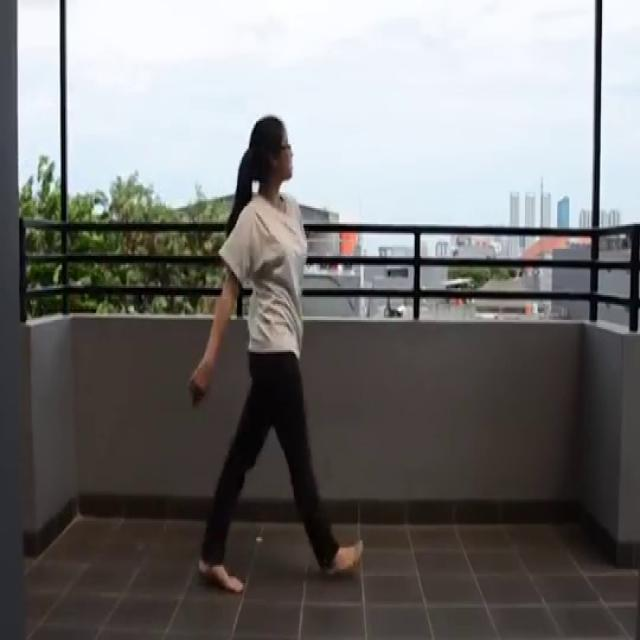normal: (187, 108, 375, 601)
